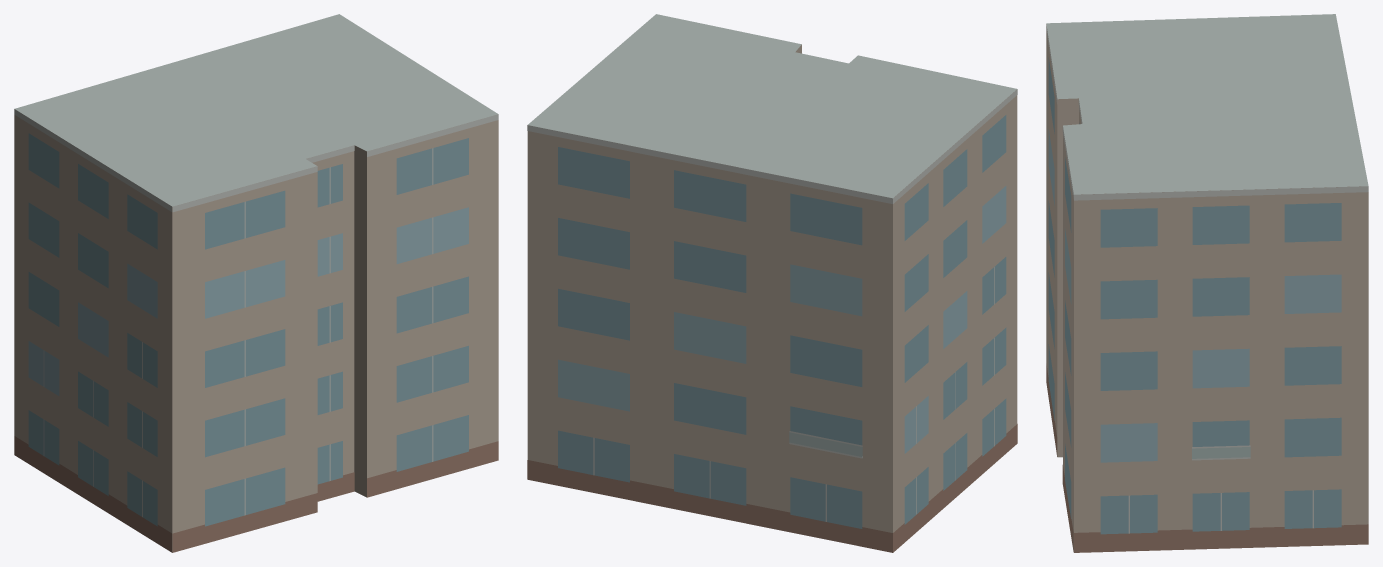
Rendered from survey-upis-32911189.glb.
The picture shows the model from 3 angles, left to right: view 1: azimuth 30°, elevation 25°; view 2: azimuth 150°, elevation 25°; view 3: azimuth 270°, elevation 25°; orthographic projection. The views are drawn at different scales.
Visible parts, largest first — view 1: survey-upis-32911189.tmp; view 2: survey-upis-32911189.tmp; view 3: survey-upis-32911189.tmp.
Part boxes in pixels (<box>): survey-upis-32911189.tmp: <box>14,14,498,552</box>; survey-upis-32911189.tmp: <box>527,14,1017,552</box>; survey-upis-32911189.tmp: <box>1046,14,1368,552</box>.
Bounding box in the file's own units: 15.91 × 14.7 × 12.
